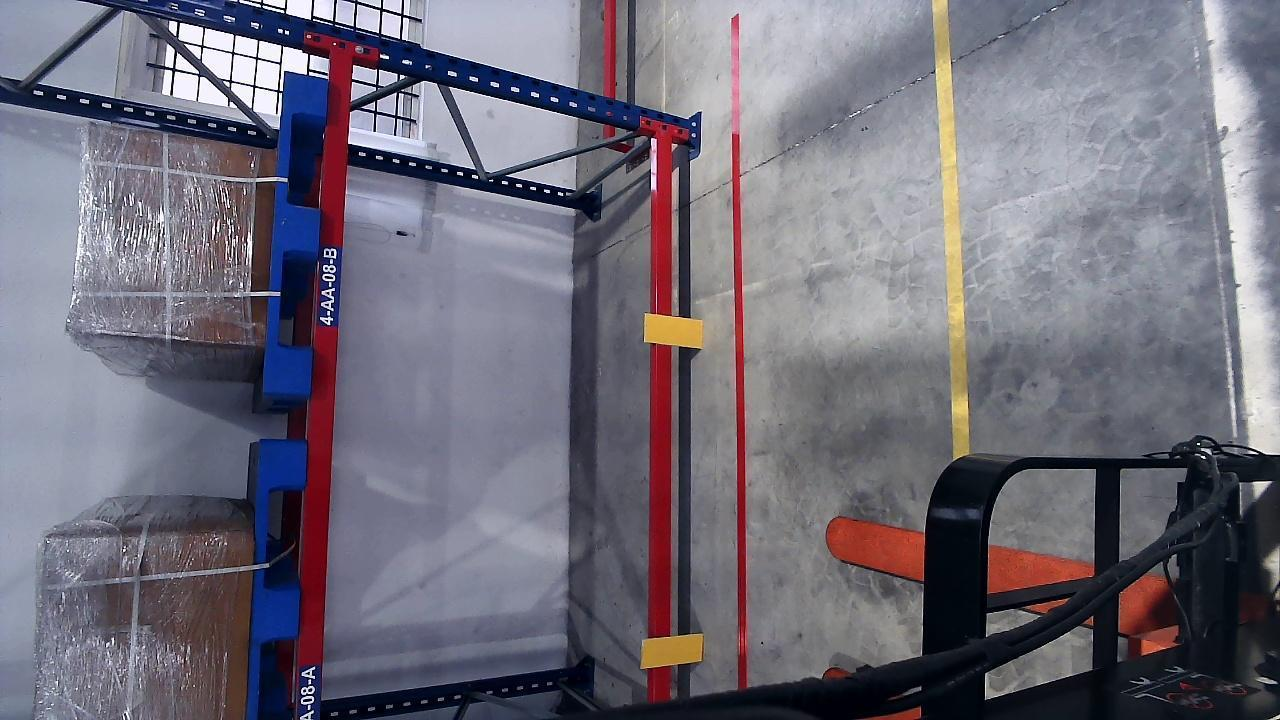red_line: (728, 16, 750, 688)
yellow_line: (931, 1, 972, 457)
